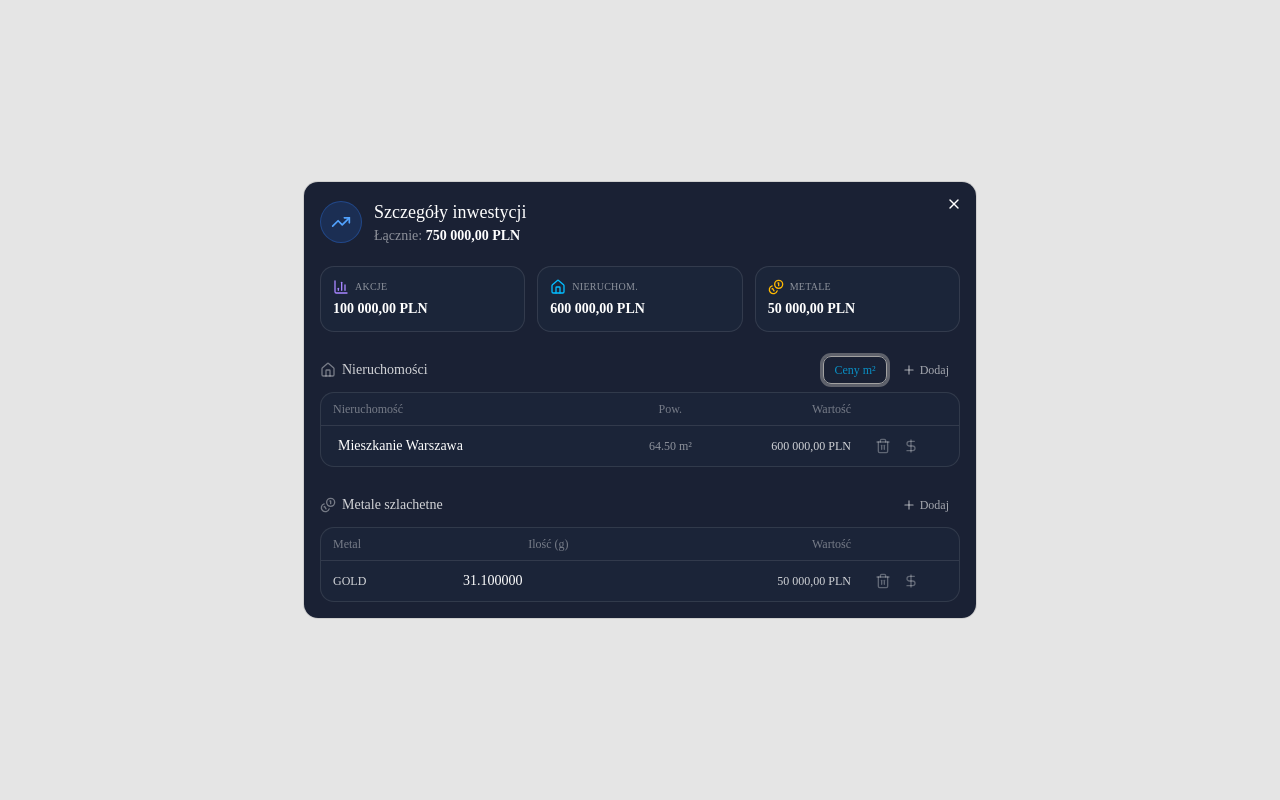
Test: InvestmentsDialog › keeps a row-level error when real estate deletion is rejected
The image size is (1280, 800).
Expected: the row showing "Mieszkanie Warszawa" is shown, [321,426,959,466]
Click the 4th button.
click(883, 446)  # box [871,434,895,458]
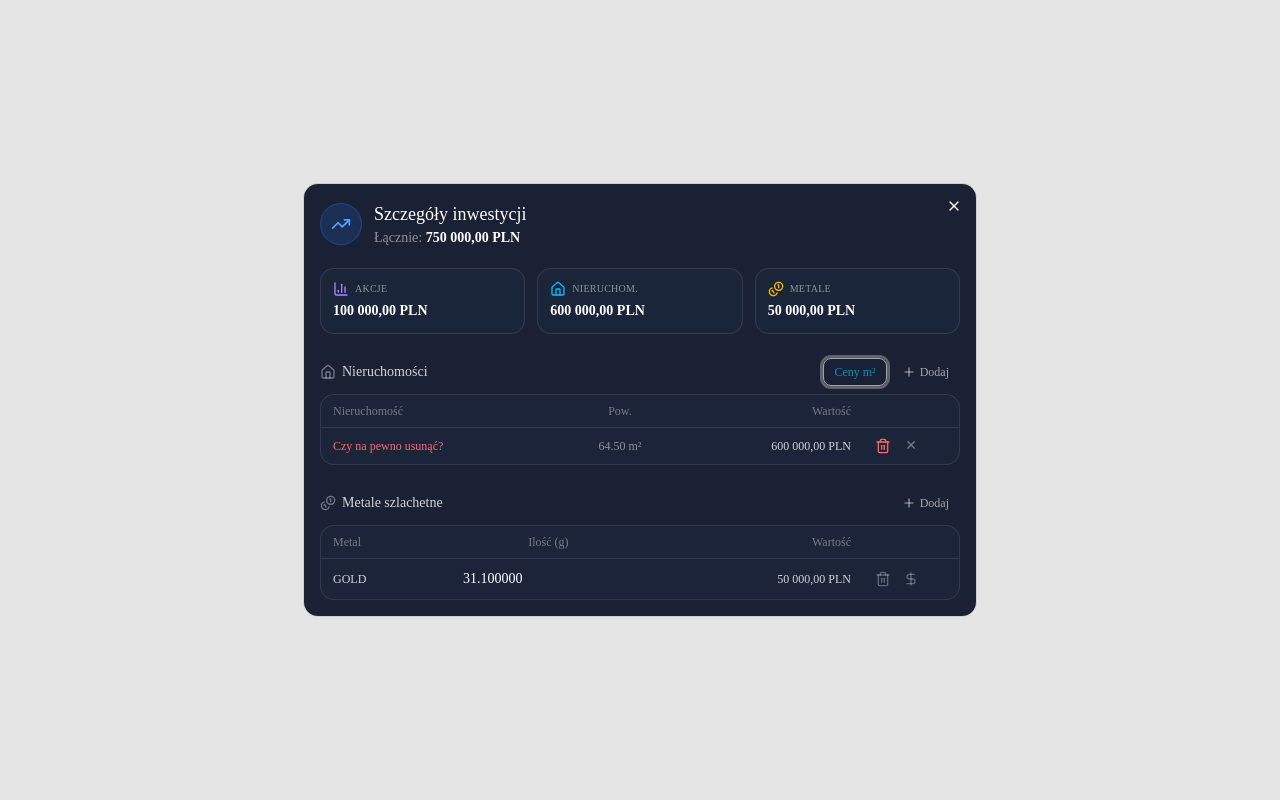
Click the button without text in the row of "Czy na pewno usunąć?".
click(883, 446)  # box [871,434,895,458]
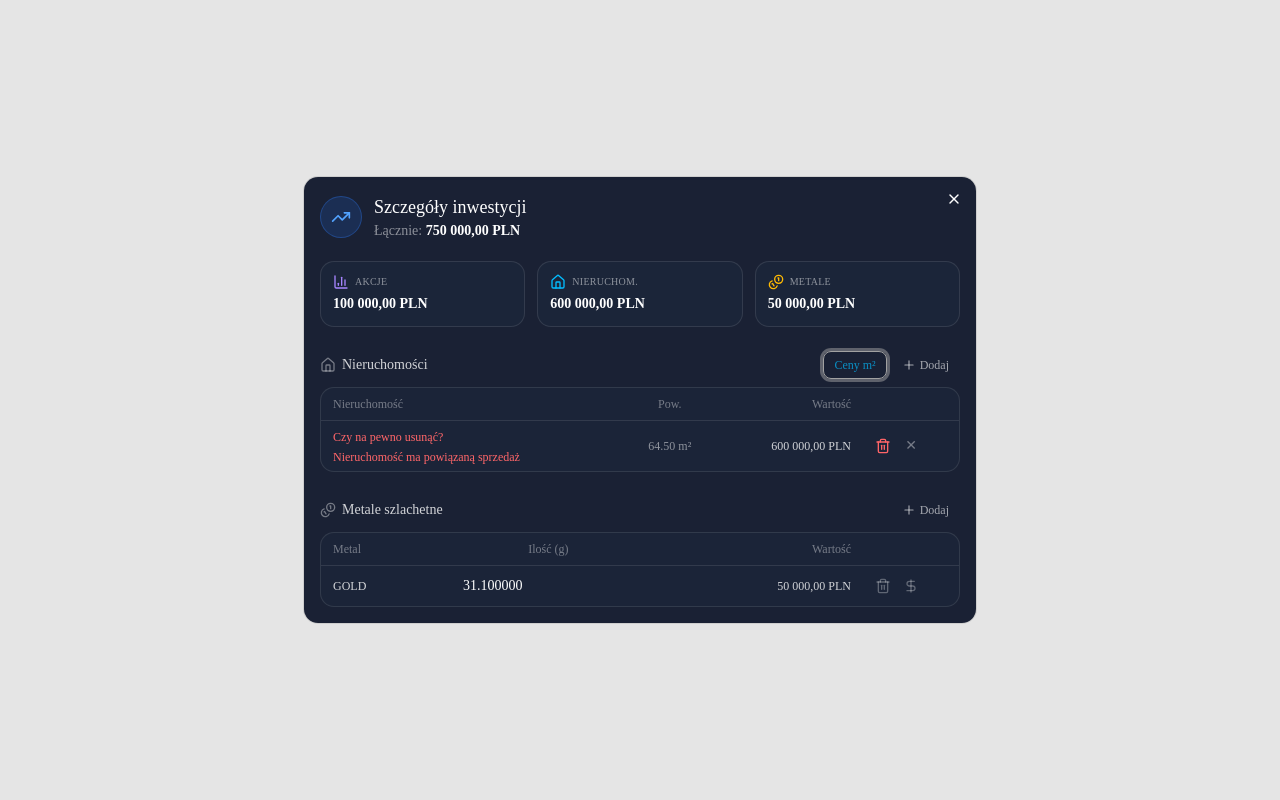
Now the text "Nieruchomość ma powiązaną sprzedaż" is shown, box [333,450,520,464]
